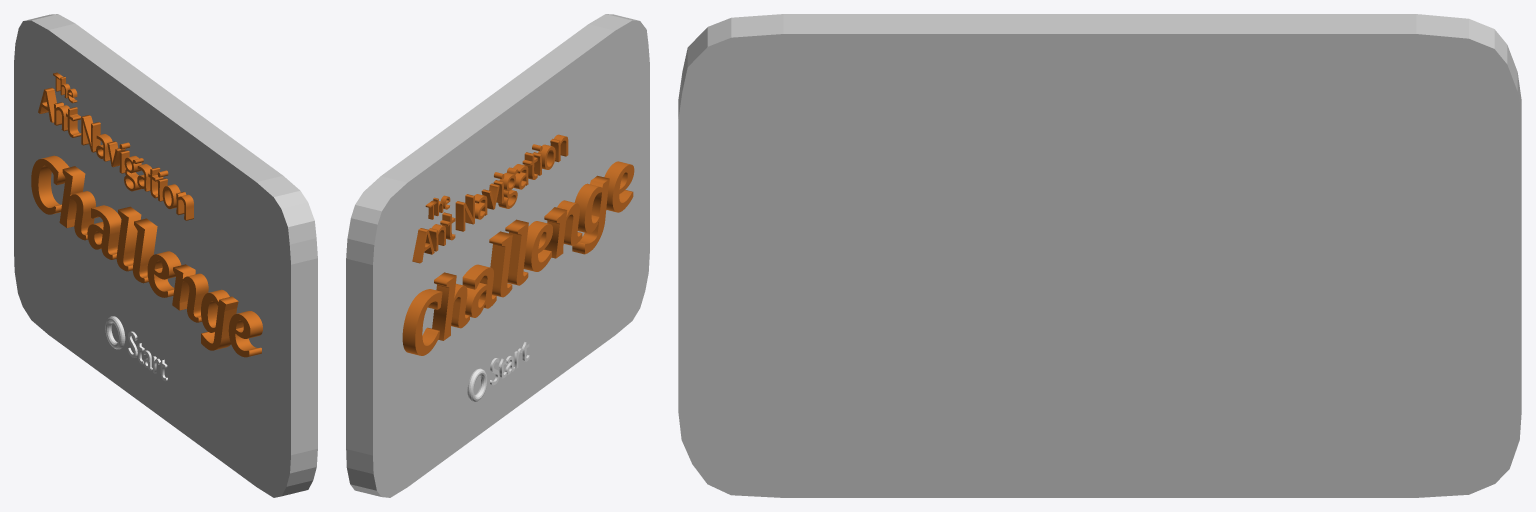
Rendered from title.fbx.
3 views of the same model, side by side, from view 1: azimuth 30°, elevation 25°; view 2: azimuth 150°, elevation 25°; view 3: azimuth 270°, elevation 25° (orthographic). The views are drawn at different scales.
Visible parts, largest first — view 1: Cube, Text.002, Text.001, Text.004, Torus.001, Text; view 2: Cube, Text.002, Text.001, Text.004, Torus.001, Text; view 3: Cube.
Boxes of the visible parts, x1,y1,x2,y2 form: Cube: (14, 14, 317, 497); Text.002: (31, 155, 262, 357); Text.001: (38, 87, 193, 220); Text.004: (128, 331, 167, 381); Torus.001: (105, 316, 125, 349); Text: (53, 72, 77, 103); Cube: (346, 14, 649, 497); Text.002: (402, 161, 634, 355); Text.001: (412, 134, 568, 263); Text.004: (490, 342, 529, 385); Torus.001: (467, 368, 487, 401); Text: (425, 195, 450, 219); Cube: (678, 14, 1521, 497).
Size of the model in its own units: 40.98 by 303 by 499.
